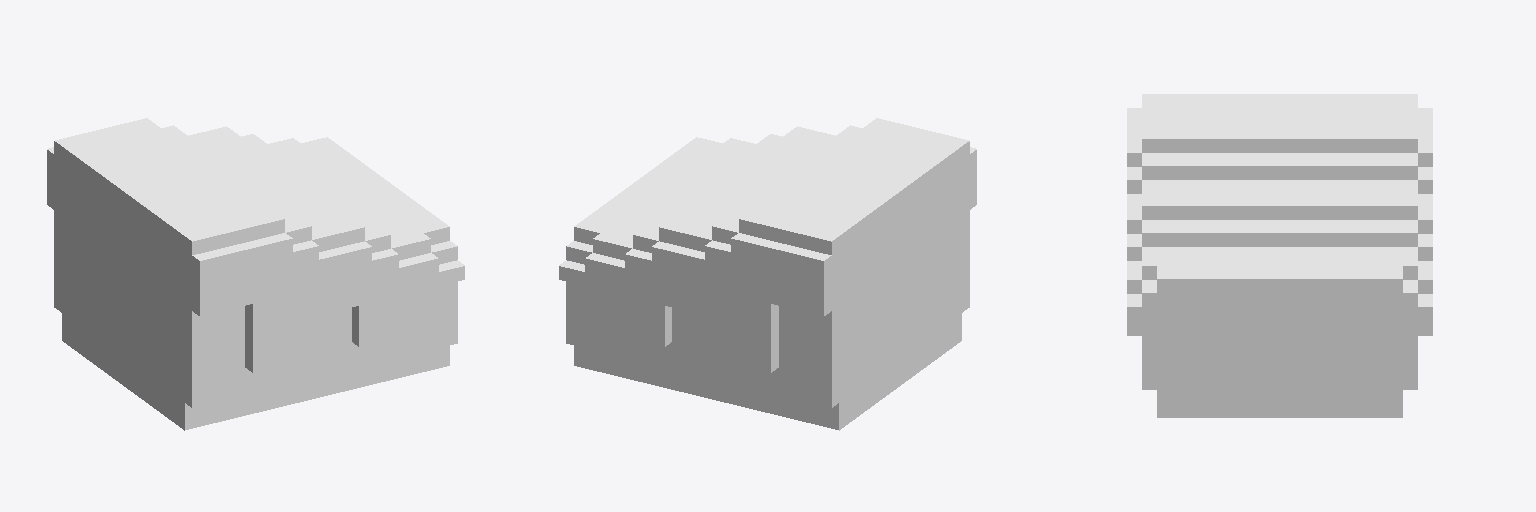
File: Floors-17.obj
3 views of the same model, side by side, from view 1: azimuth 30°, elevation 25°; view 2: azimuth 150°, elevation 25°; view 3: azimuth 270°, elevation 25° (orthographic).
Parts seen in each view (by area): view 1: object 1; view 2: object 1; view 3: object 1.
Part boxes in pixels (bbox=[...]): object 1: bbox=[47, 118, 464, 430]; object 1: bbox=[559, 118, 976, 430]; object 1: bbox=[1127, 94, 1432, 417].
Bounding box in the file's own units: 2 × 1.4 × 2.